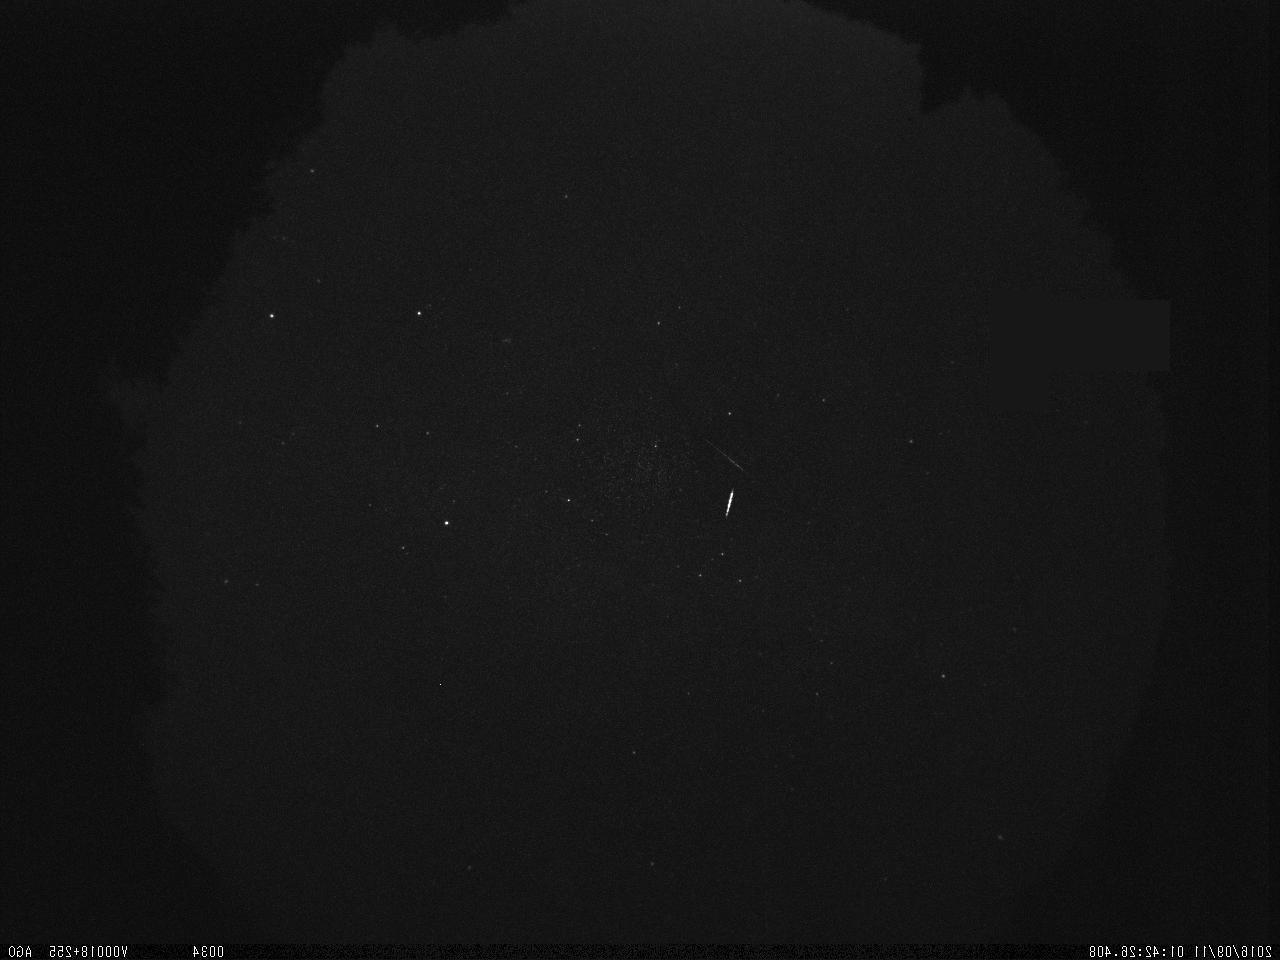meteor: (718, 479, 740, 525)
